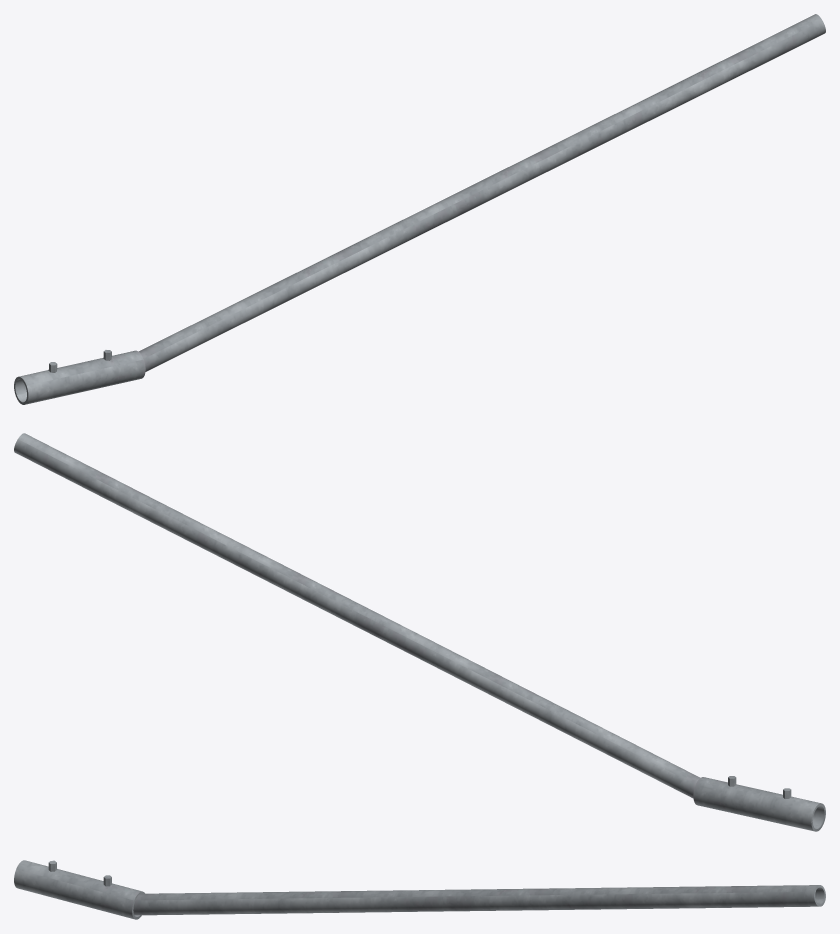
The model's file is ELE-IPU-003_anim.glb.
The picture shows the model from 3 angles, top to bottom: view 1: azimuth 30°, elevation 25°; view 2: azimuth 150°, elevation 25°; view 3: azimuth 330°, elevation 25°; orthographic projection.
Visible parts, largest first — view 1: ELE-IPU-003_anim0; view 2: ELE-IPU-003_anim0; view 3: ELE-IPU-003_anim0.
Boxes of the visible parts, left/top/right/bottom form: ELE-IPU-003_anim0: left=14, top=14, right=825, bottom=404; ELE-IPU-003_anim0: left=14, top=433, right=825, bottom=831; ELE-IPU-003_anim0: left=14, top=860, right=825, bottom=919.
Bounding box in the file's own units: 2.04 × 0.4897 × 0.07.
Materials: 1 (1 with a texture image).
